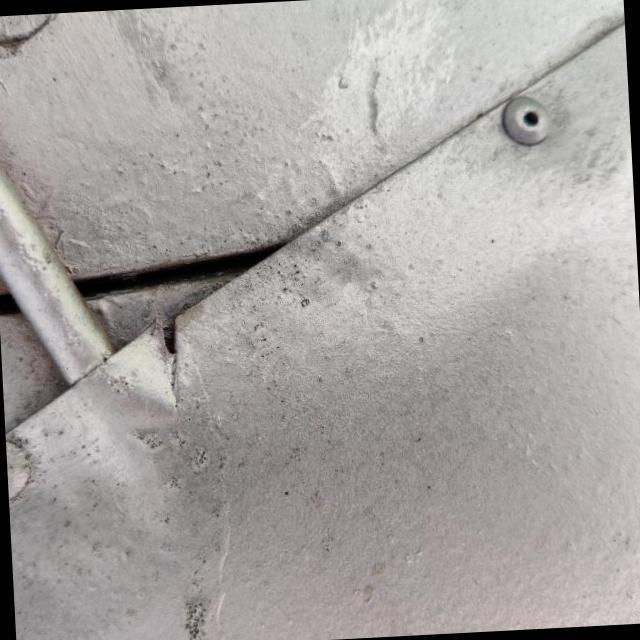Rupture: (139, 292, 220, 411)
